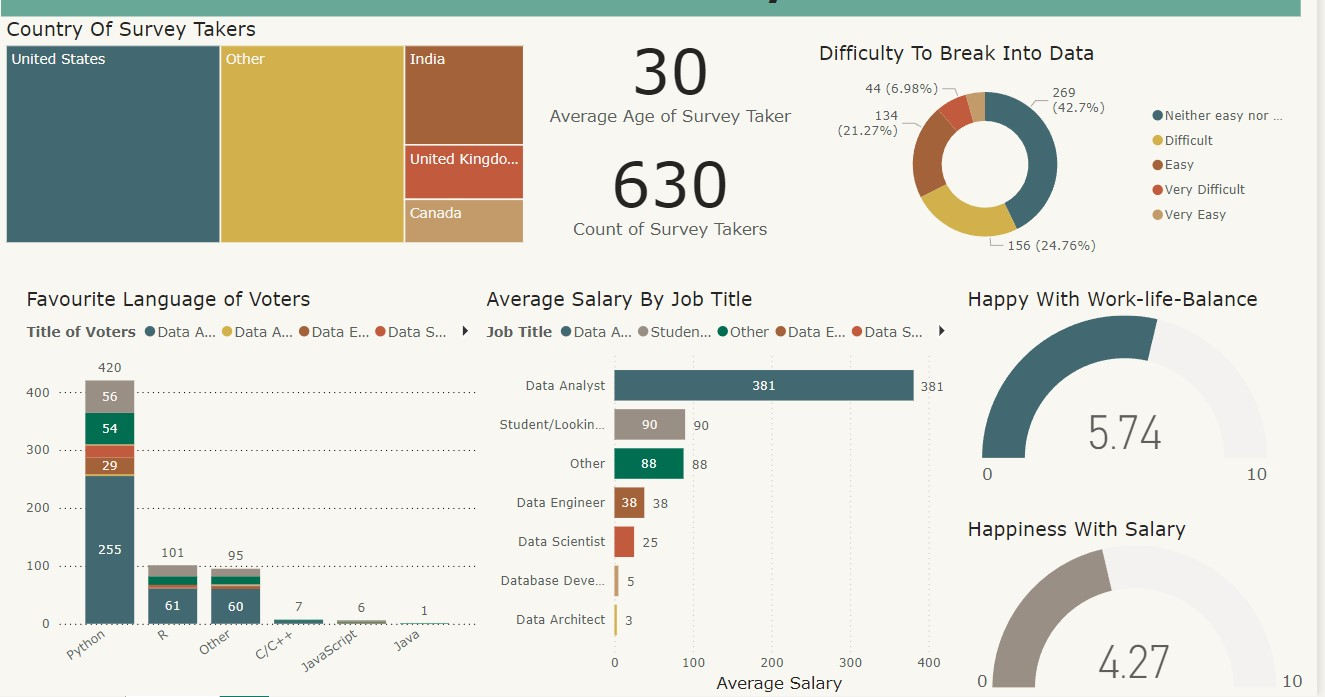

The page's visual inventory and layout, read from the dashboard file:
{"tool":"powerbi","page":{"name":"Page 1","canvas":[1280,720],"ordinal":0},"visuals":[{"type":"textbox","box":[9.6,0,1254.2,63.1],"z":0},{"type":"card","fields":{"Values":["CountNonNull(Data Professional Survey.Unique ID)"]},"box":[538.1,174.9,235.3,112.2],"z":1000},{"type":"card","title":"hhhh","fields":{"Values":["Avg(Data Professional Survey.Q10 - Current Age)"]},"box":[517.6,68.8,276.3,106.2],"z":2000},{"type":"barChart","title":"Average Salary By Job Title","fields":{"Category":["Data Professional Survey.Q1 - Which Title Best Fits your Current Role?.1"],"Y":["CountNonNull(Data Professional Survey.Average Salary)"],"Series":["Data Professional Survey.Q1 - Which Title Best Fits your Current Role?.1"]},"box":[473.3,324.6,464.2,395.9],"z":3000},{"type":"columnChart","title":"Favourite Language of Voters","fields":{"Category":["Data Professional Survey.Q5 - Favorite Programming Language.1"],"Y":["CountNonNull(Data Professional Survey.Unique ID)"],"Series":["Data Professional Survey.Q1 - Which Title Best Fits your Current Role?.1"]},"box":[29,324.5,444,395.7],"z":4000},{"type":"treemap","title":"Country Of Survey Takers","fields":{"Group":["Data Professional Survey.Q11 - Which Country do you live in?.1"],"Values":["CountNonNull(Data Professional Survey.Q11 - Which Country do you live in?.1)"]},"box":[9.1,63.7,509.7,223],"z":5000},{"type":"gauge","title":"Happy With Work-life-Balance","fields":{"Y":["Avg(Data Professional Survey.Q6 - How Happy are you in your Current Position with the following? (Work/Life Balance))"],"MinValue":["Min(Data Professional Survey.Q6 - How Happy are you in your Current Position with the following? (Work/Life Balance))1"],"MaxValue":["Max(Data Professional Survey.Q6 - How Happy are you in your Current Position with the following? (Work/Life Balance))2"]},"box":[937.4,324.5,313.7,199.1],"z":6000},{"type":"gauge","title":"Happiness With Salary","fields":{"Y":["Avg(Data Professional Survey.Q6 - How Happy are you in your Current Position with the following? (Salary))"],"MinValue":["Min(Data Professional Survey.Q6 - How Happy are you in your Current Position with the following? (Salary))"],"MaxValue":["Max(Data Professional Survey.Q6 - How Happy are you in your Current Position with the following? (Salary))"]},"box":[937.5,546.1,342.8,174.4],"z":7000},{"type":"donutChart","title":"Difficulty To Break Into Data","fields":{"Y":["CountNonNull(Data Professional Survey.Unique ID)"],"Category":["Data Professional Survey.Q7 - How difficult was it for you to break into Data?"]},"box":[793.8,86.9,470.5,216],"z":8000}]}

Visuals, with their boxes on the page's 1280x720 design canvas (x1, y1, x2, y2). These are canvas units, not pixel positions in the 1325x697 screenshot, which may show the page scaled, cropped or inside an application window:
textbox: detection(10, 0, 1264, 63)
card - CountNonNull(Data Professional Survey.Unique ID): detection(538, 175, 773, 287)
"hhhh" card: detection(518, 69, 794, 175)
"Average Salary By Job Title" barChart: detection(473, 325, 938, 720)
"Favourite Language of Voters" columnChart: detection(29, 324, 473, 720)
"Country Of Survey Takers" treemap: detection(9, 64, 519, 287)
"Happy With Work-life-Balance" gauge: detection(937, 324, 1251, 524)
"Happiness With Salary" gauge: detection(938, 546, 1280, 720)
"Difficulty To Break Into Data" donutChart: detection(794, 87, 1264, 303)
